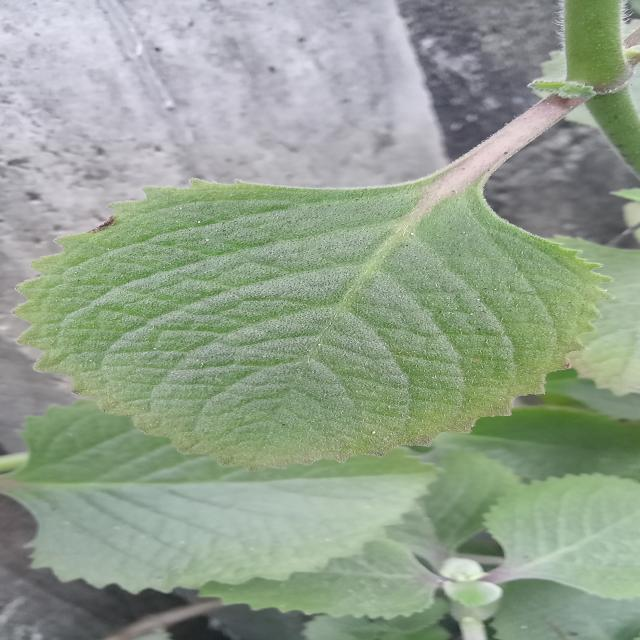Oregano: (4, 163, 640, 488)
